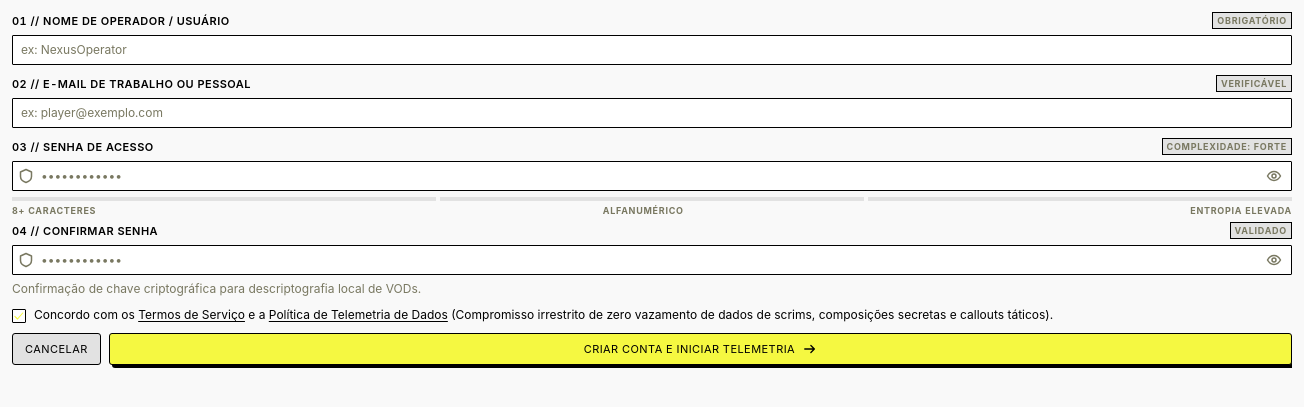
Test: SignupForm › mensagem específica para e-mail já cadastrado
In the field labelled "01 // NOME DE OPERADOR / USUÁRIO": (652, 50) [12,35,1292,65], type "  Coach  "
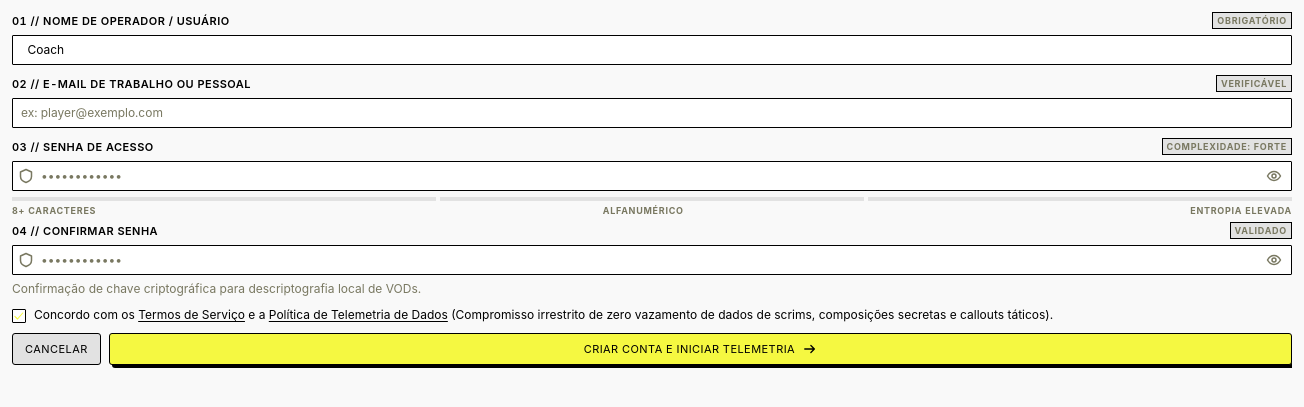
In the field labelled "02 // E-MAIL DE TRABALHO OU PESSOAL": (652, 113) [12,98,1292,128], type "coach@valcoach.dev"
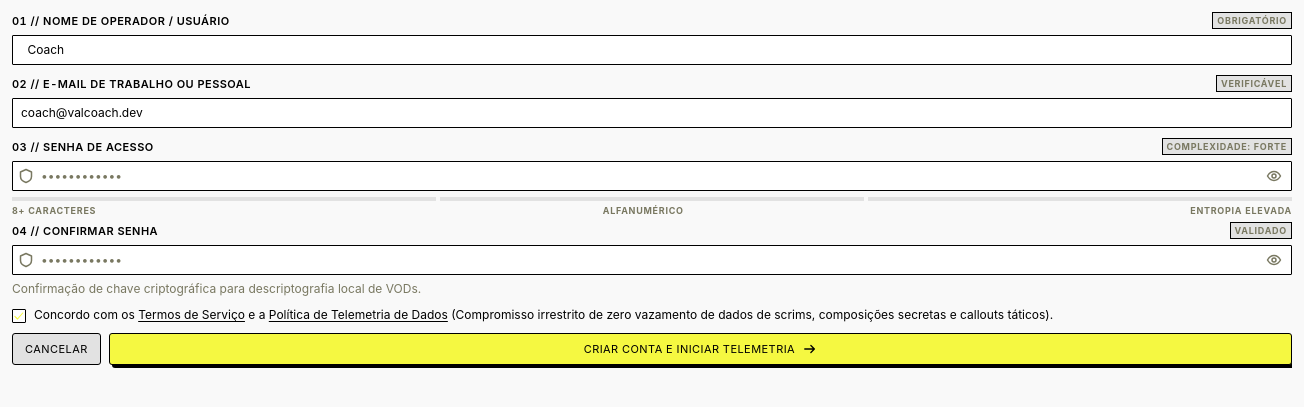
In the password field labelled "03 // SENHA DE ACESSO": (652, 176) [12,161,1292,191], type "segred0!valcoach"
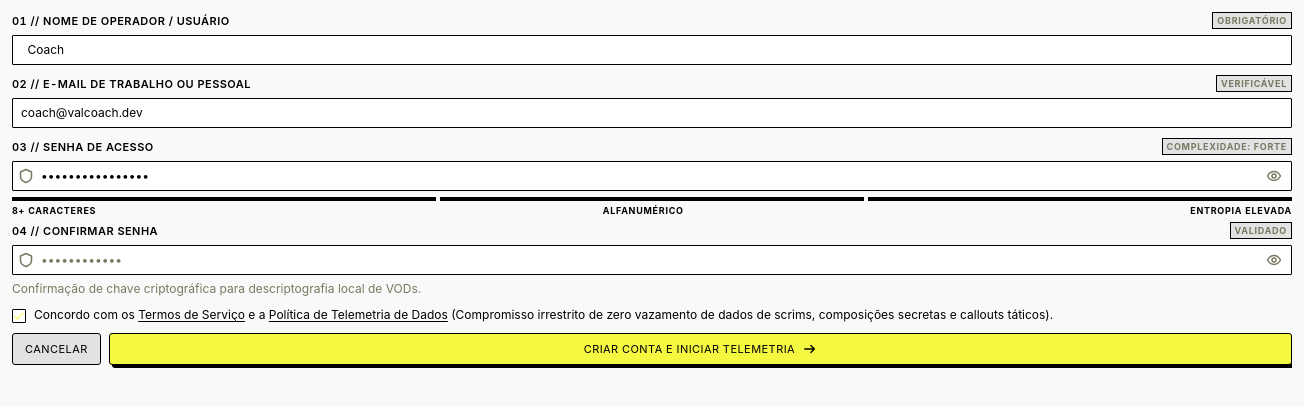
In the password field labelled "04 // CONFIRMAR SENHA": (652, 260) [12,245,1292,275], type "segred0!valcoach"
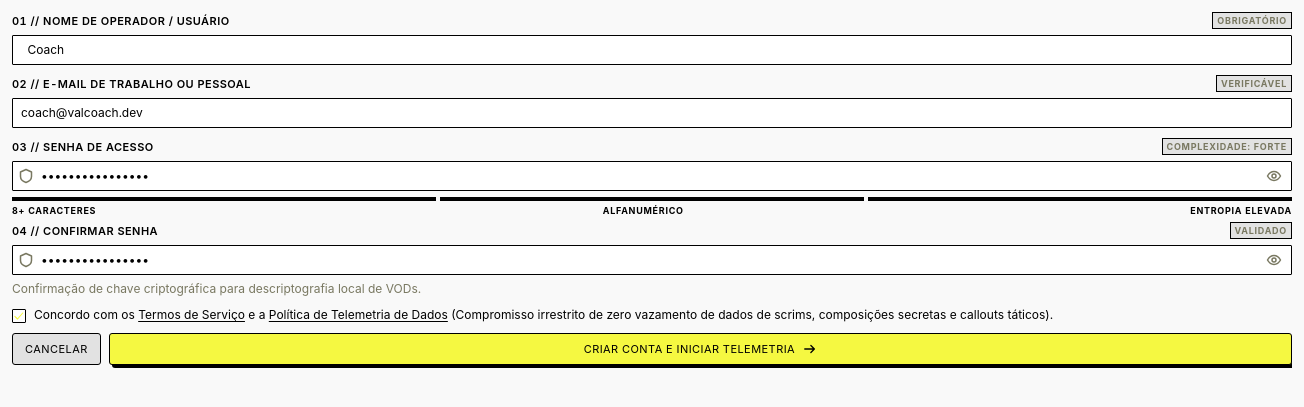
Click the checkbox labelled "Concordo com os": (19, 316) [12,309,26,323]
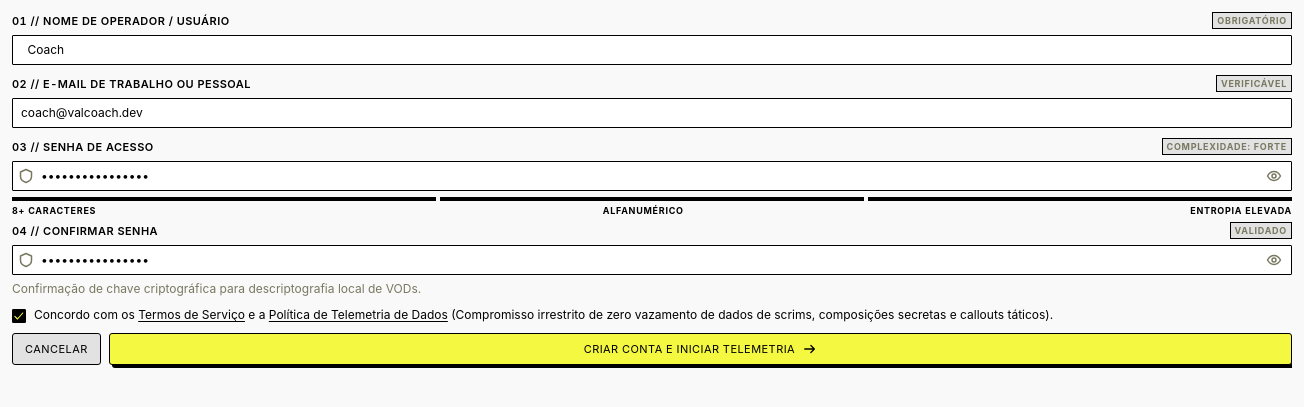
Submit the form
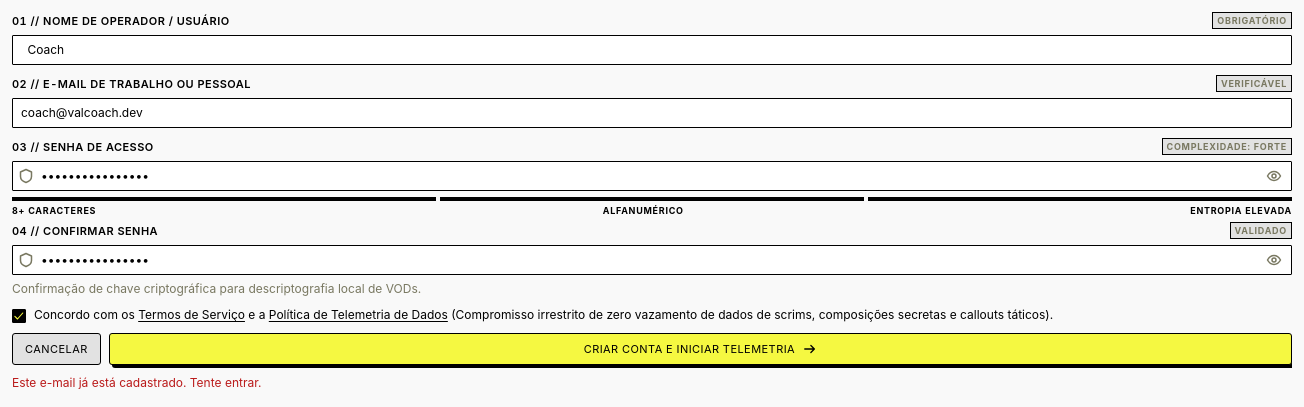
Check: the message shows "já está cadastrado", box [12,375,261,390]
